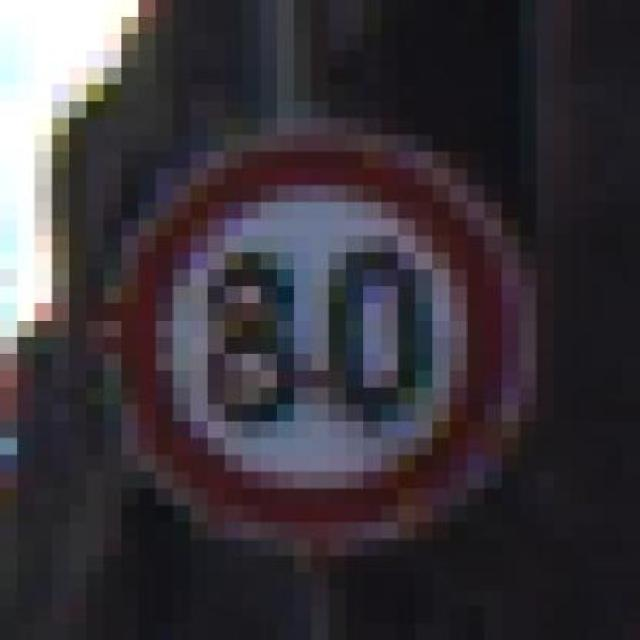forb_speed_over_80: (123, 136, 505, 527)
